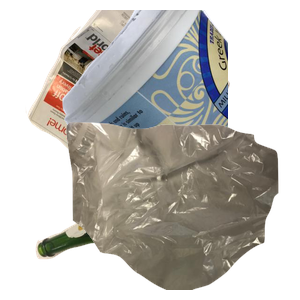glass: (33, 158, 246, 300)
paper: (23, 10, 245, 190)
plastic: (60, 10, 300, 190)
trash: (64, 120, 300, 300)
